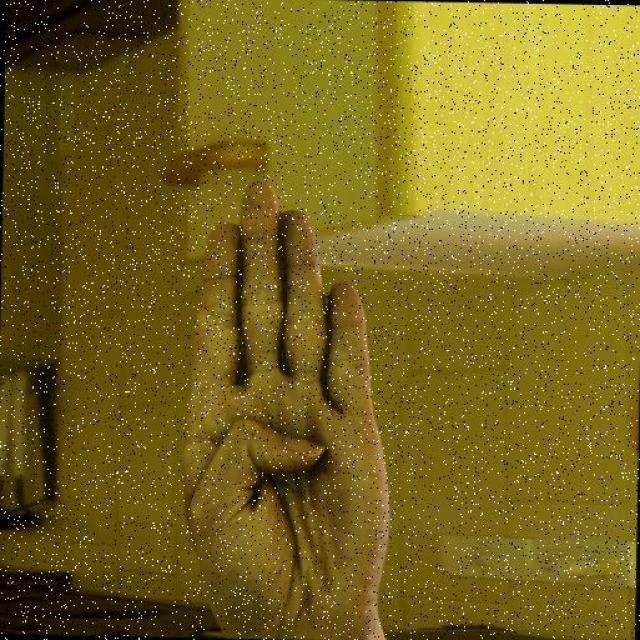B: (173, 173, 400, 632)
